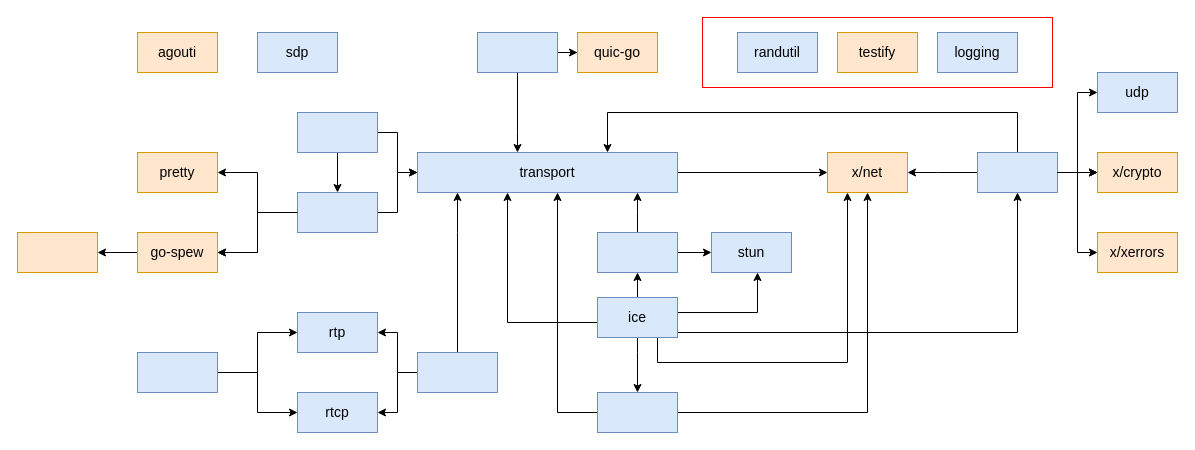
Image size: 1195x450. Some labels were removed from this diagram. Here are the shapes that lost their labels. From the top down, the centre of each, then its label:
the point at 517,52: quic
the point at 337,132: datachannel
the point at 1017,172: dtls
the point at 337,212: sctp
the point at 57,252: check
the point at 637,252: turn
the point at 177,372: interceptor
the point at 457,372: srtp
the point at 637,412: mdns
